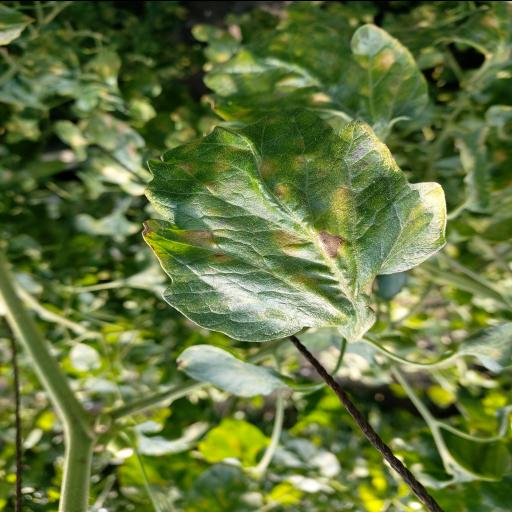Leaf Mold: (140, 105, 450, 341)
